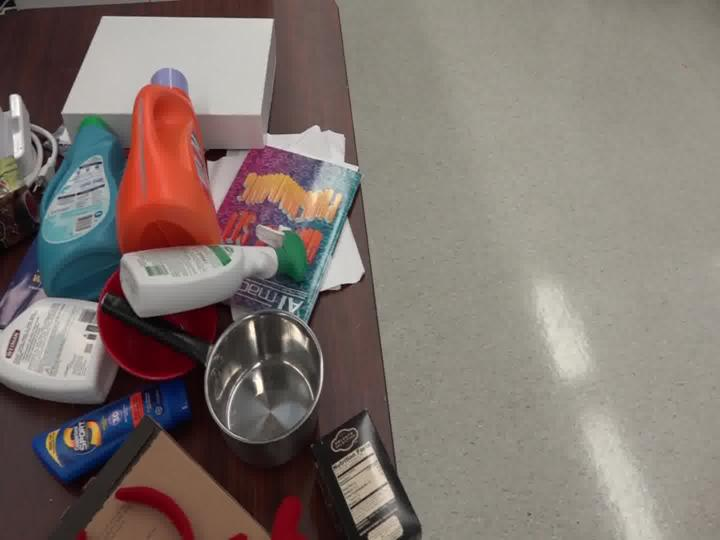downy: (24, 96, 120, 300)
